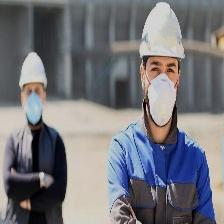Person: (105, 1, 219, 224)
helmet: (134, 1, 189, 68)
no-vest: (106, 117, 216, 224)
